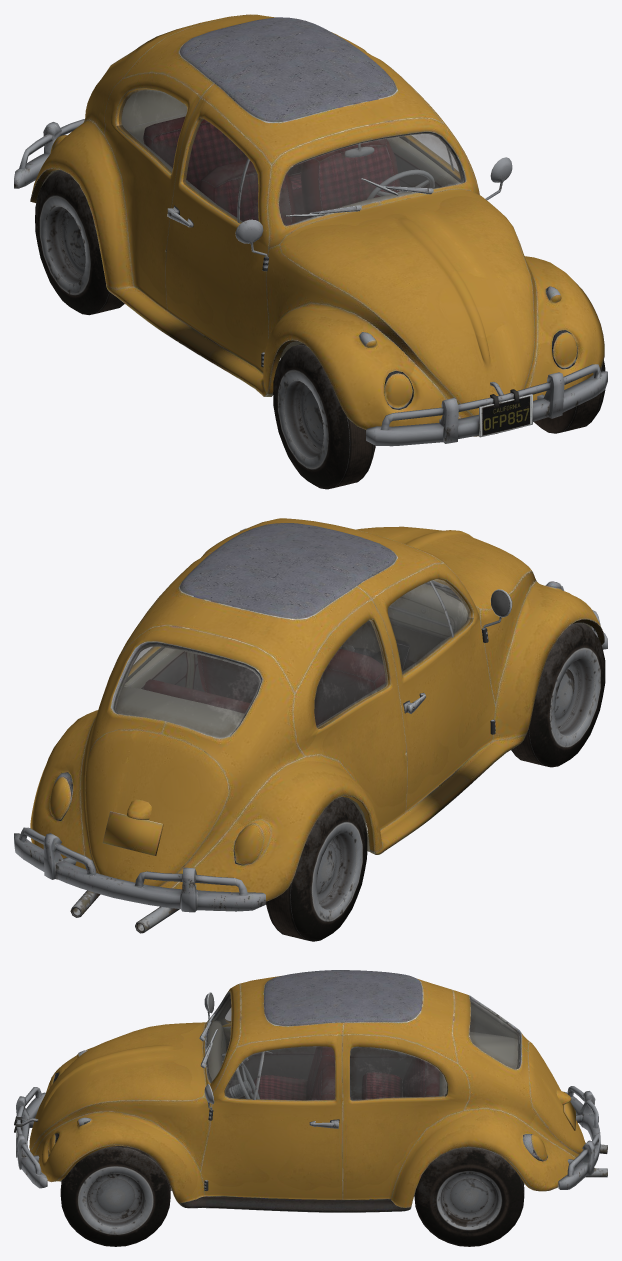
The model's file is beetle.glb.
3 views of the same model, one above another, from view 1: azimuth 30°, elevation 25°; view 2: azimuth 150°, elevation 25°; view 3: azimuth 270°, elevation 25° (orthographic). The views are drawn at different scales.
Parts seen in each view (by area): view 1: car_body, windows.006, tire_right, bumper_front, tires_rear, seat_driver, interior_lining, seat_rear, seat_shotgun, bumper_rear, tire_left, mirror_right; view 2: car_body, windows.006, interior_lining, tires_rear, tire_right, bumper_rear, seat_shotgun, seat_driver, plate_rear, seat_rear, mirror_right; view 3: car_body, windows.006, tire_left, tires_rear, interior_lining, seat_rear, bumper_rear, seat_shotgun, bumper_front, seat_driver, steering_wheel.
Part boxes in pixels (x1,y1,x2,y2): car_body: (30, 14, 604, 436); windows.006: (118, 89, 463, 225); tire_right: (273, 343, 375, 489); bumper_front: (366, 364, 607, 446); tires_rear: (35, 170, 124, 315); seat_driver: (300, 138, 399, 218); interior_lining: (121, 90, 460, 225); seat_rear: (143, 116, 305, 222); seat_shotgun: (199, 159, 296, 225); bumper_rear: (14, 119, 84, 188); tire_left: (533, 360, 605, 433); mirror_right: (235, 219, 269, 271); car_body: (30, 518, 604, 901); windows.006: (113, 579, 470, 738); interior_lining: (116, 583, 467, 738); tires_rear: (56, 797, 367, 941); tire_right: (511, 622, 605, 767); bumper_rear: (14, 827, 265, 912); seat_shotgun: (314, 649, 385, 725); seat_driver: (197, 654, 259, 703); plate_rear: (102, 811, 163, 855); seat_rear: (143, 679, 250, 713); mirror_right: (481, 589, 512, 642); car_body: (29, 970, 585, 1212); windows.006: (207, 994, 519, 1100); tire_left: (60, 1146, 170, 1246); tires_rear: (414, 1146, 524, 1246); interior_lining: (207, 1020, 517, 1100); seat_rear: (361, 1056, 439, 1099); bumper_rear: (558, 1086, 600, 1189); seat_shotgun: (252, 1046, 334, 1100); bumper_front: (14, 1087, 47, 1188); seat_driver: (312, 1065, 334, 1100); steering_wheel: (226, 1062, 259, 1099).
Bounding box in the file's own units: 1.89 × 1.88 × 4.75.
Materials: 7 (7 with a texture image).
